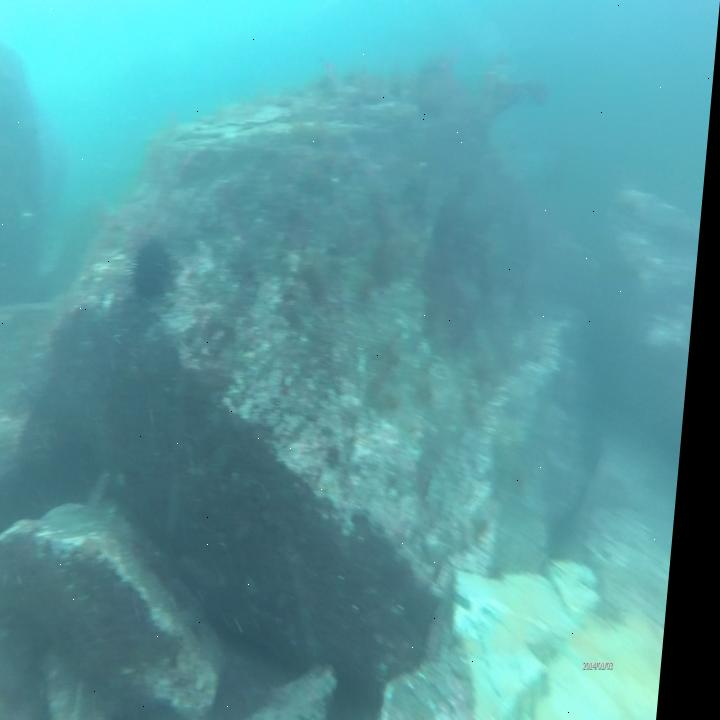echinus: (132, 229, 185, 313)
